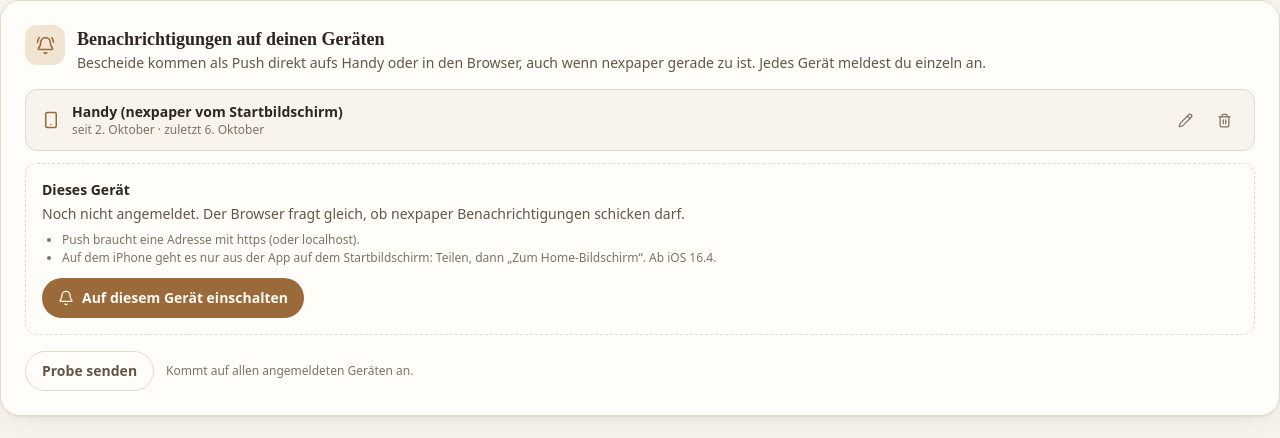
Scenario: the devices › lists the own devices with since and last, and signs this browser up with the server key
Expected: the element with test id "push-here" shows "Noch nicht angemeldet.", [42,204,685,223]
Expected: the element with test id "push-here" shows "Push braucht eine Adresse mit https (oder localhost).", [62,231,360,248]
What coordinates should you click on to do the following:
click the button "Auf diesem Gerät einschalten"
I would click on:
 (173, 298)
Its box is [42,278,304,318].
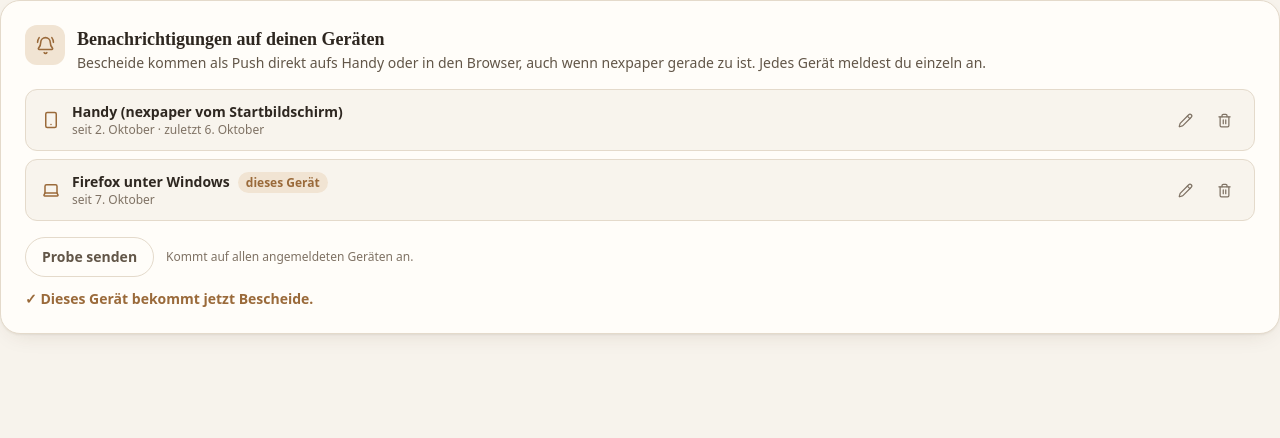
Expected: the text "dieses Gerät" is shown, [238,172,328,193]
Now the text "Dieses Gerät bekommt jetzt Bescheide." is shown, box [40,289,313,308]
Now the element with test id "push-here" is gone
